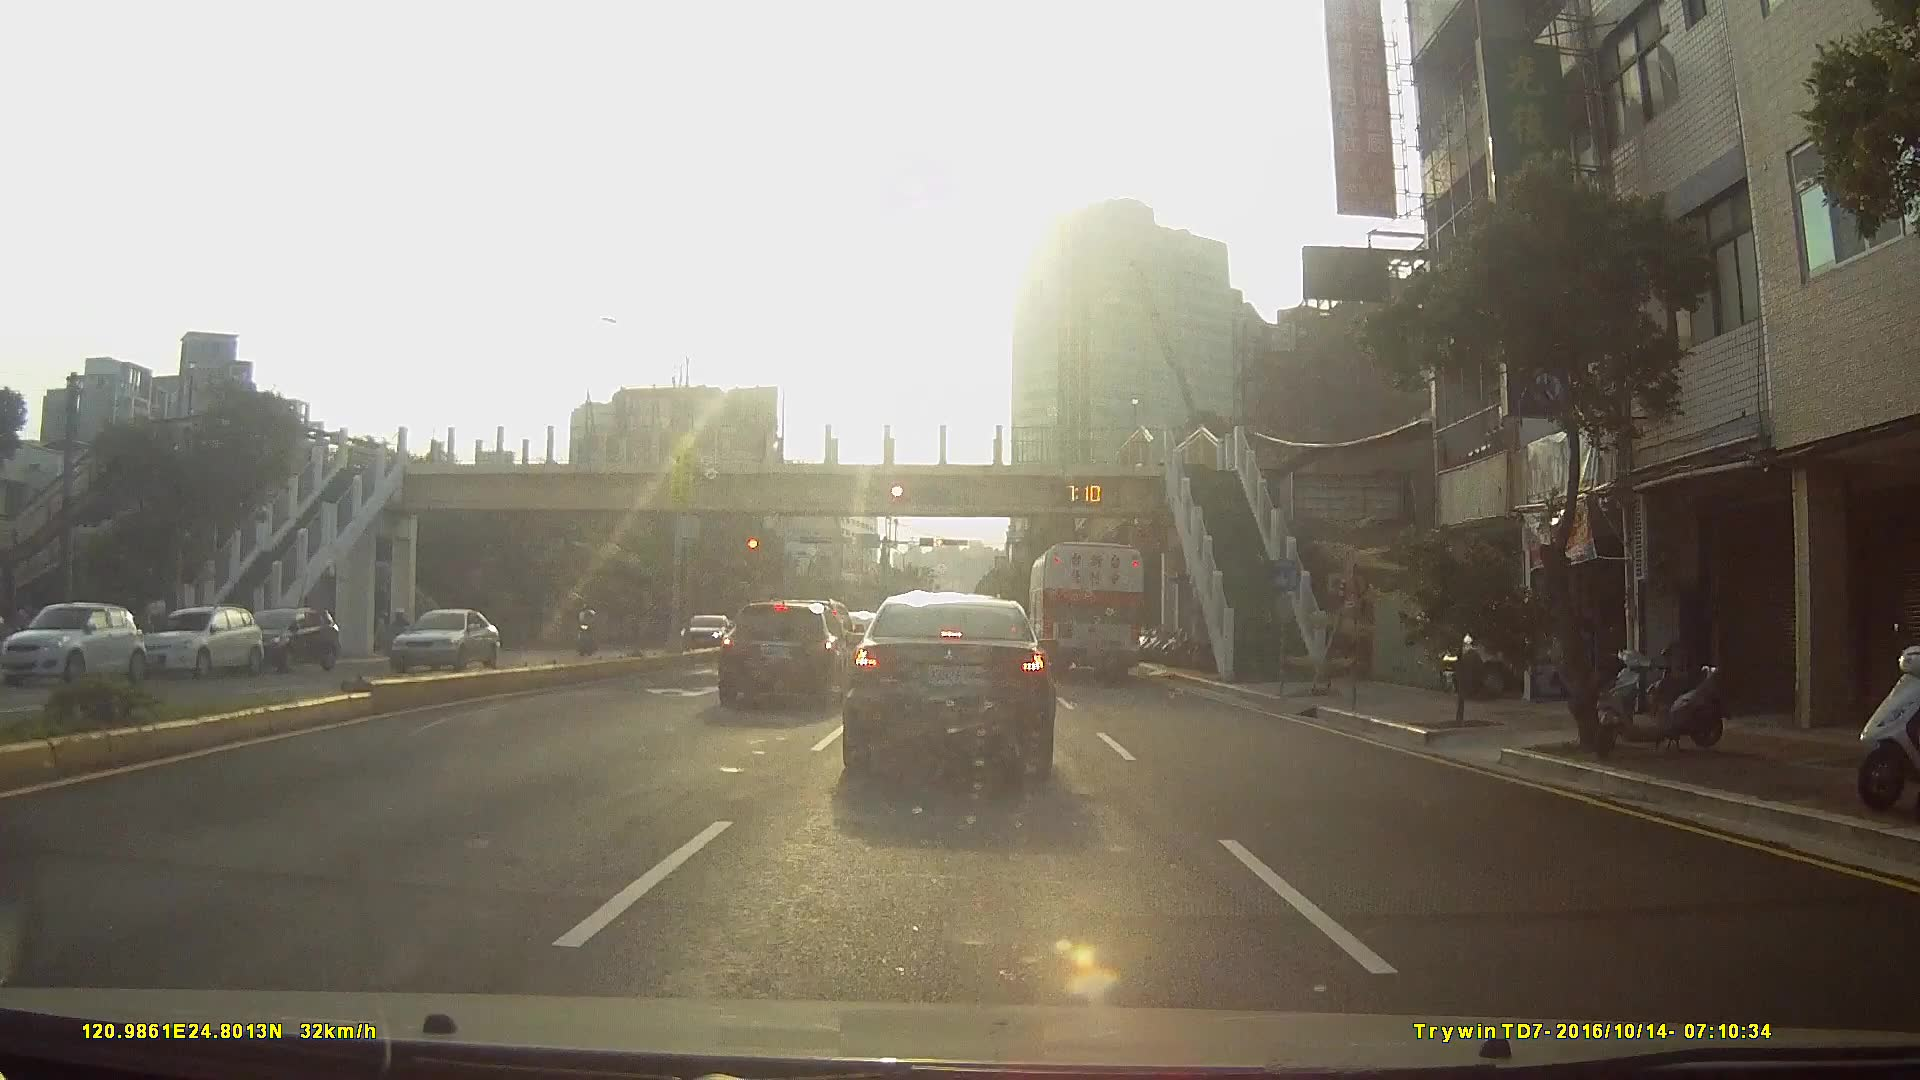rider: (573, 605, 609, 659)
vehicle: (839, 590, 1059, 779), (1027, 539, 1146, 681), (713, 595, 856, 708), (0, 600, 142, 686), (131, 603, 260, 676), (376, 604, 493, 671), (242, 605, 339, 669), (673, 613, 727, 652)
